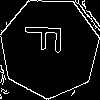F: (24, 23, 71, 55)
